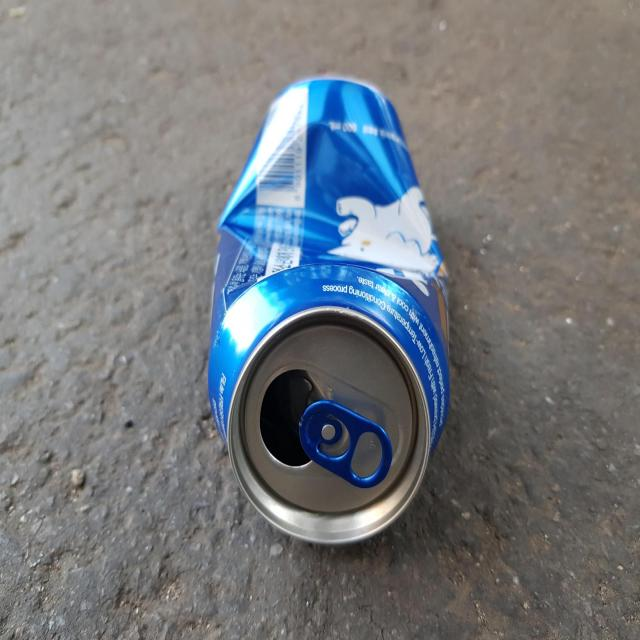can: (208, 76, 450, 544)
